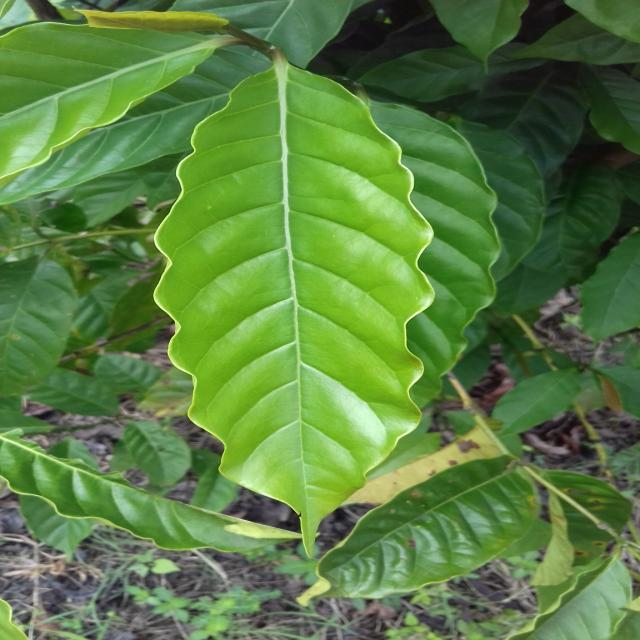Sanas: (152, 62, 434, 552)
